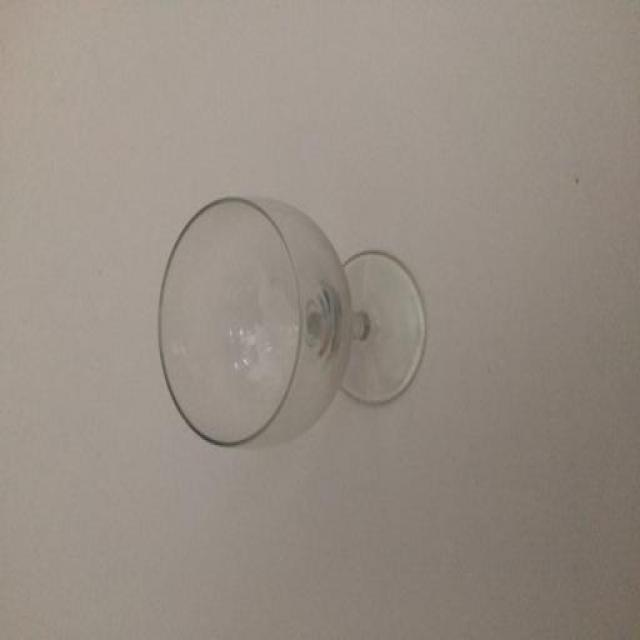Waste: (159, 197, 426, 446)
